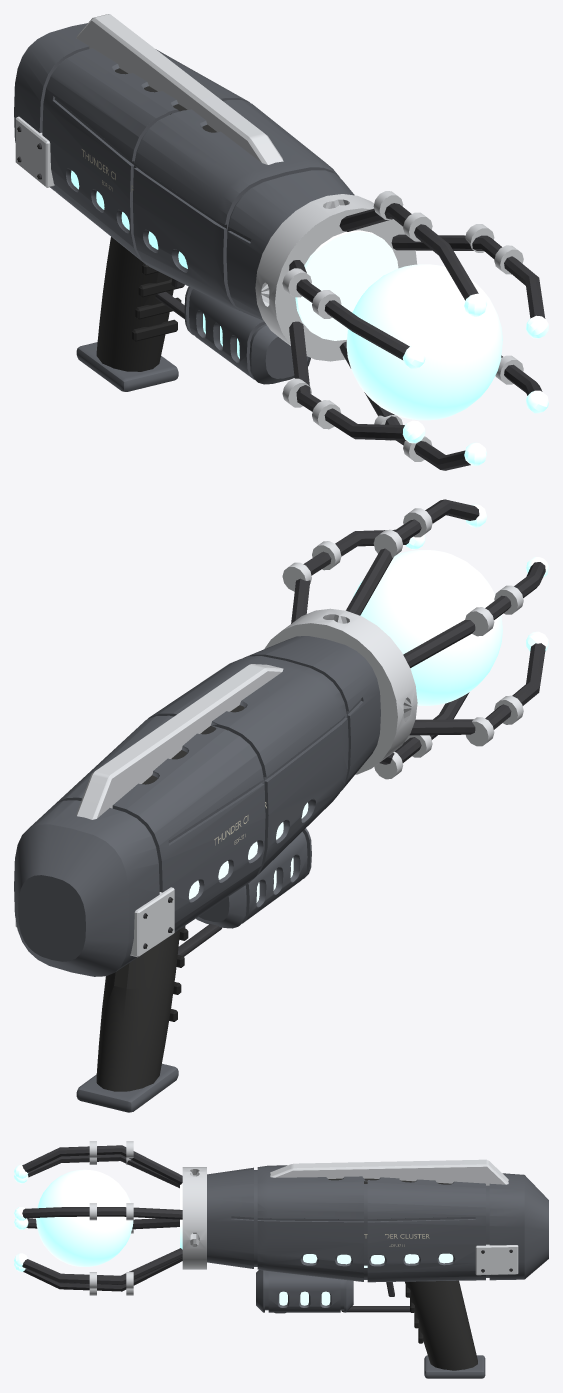
File: thundercluster.glb
3 views of the same model, one above another, from view 1: azimuth 30°, elevation 25°; view 2: azimuth 150°, elevation 25°; view 3: azimuth 270°, elevation 25° (orthographic). The views are drawn at different scales.
Parts seen in each view (by area): view 1: Body; view 2: Body; view 3: Body.
Part boxes in pixels (x1=…): Body: x1=14, y1=14, x2=548, y2=470; Body: x1=14, y1=499, x2=548, y2=1112; Body: x1=14, y1=1141, x2=548, y2=1378.
Bounding box in the file's own units: 0.1214 × 0.2072 × 0.438.
